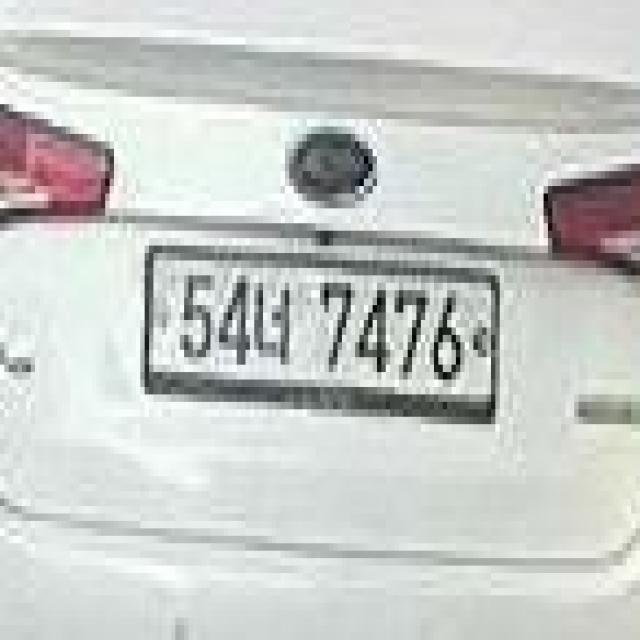4: (358, 274, 396, 384), (218, 270, 255, 368)
5: (179, 268, 215, 364)
6: (430, 282, 468, 387)
7: (313, 271, 354, 378), (391, 283, 429, 388)
license_plate: (132, 230, 509, 443)
neo: (254, 270, 300, 372)
